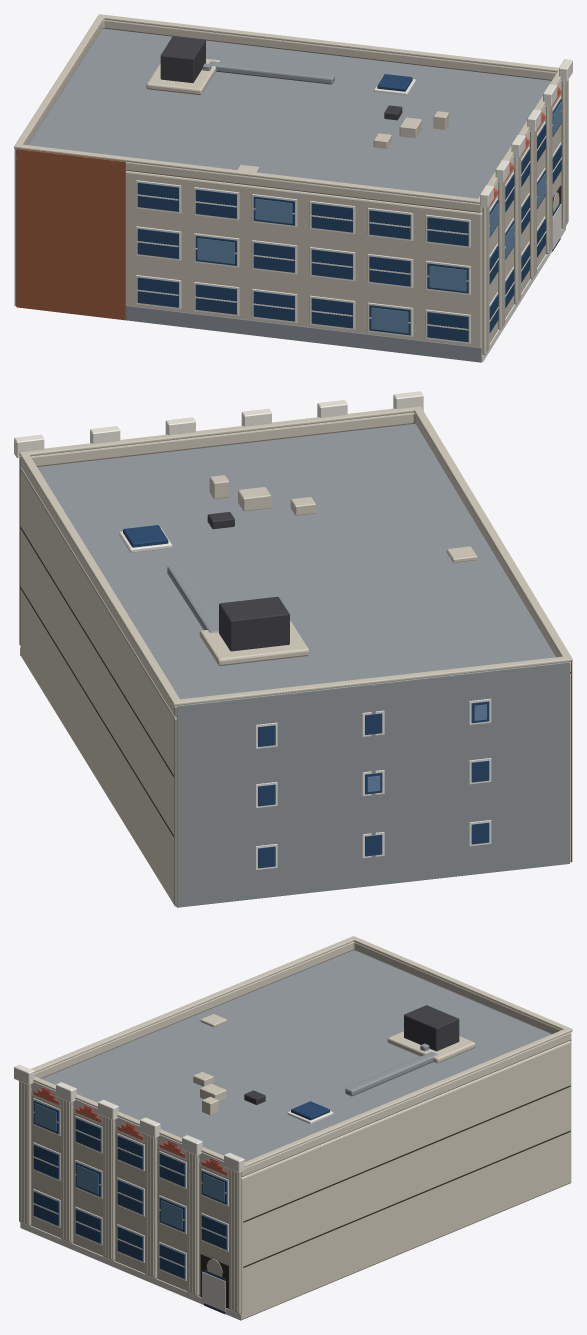
File: 434-brannan.glb
3 views of the same model, one above another, from view 1: azimuth 30°, elevation 25°; view 2: azimuth 150°, elevation 25°; view 3: azimuth 270°, elevation 25° (orthographic). The views are drawn at different scales.
Visible parts, largest first — view 1: body, clad_zoe, parapet, coping, dado_z, penthouse_ahu, duct, zw14_fill, zw02_fill, zw05_fill, zw01_fill, zw13_fill (+26 smaller); view 2: body, clad_rear, coping, parapet, penthouse_ahu, penthouse, duct, clad_rear_rib0, clad_rear_rib3, clad_rear_rib1, clad_rear_rib4, skylight (+2 smaller); view 3: body, parapet, coping, penthouse_ahu, plinth_f, pilaster4, pilaster1, pilaster0, pilaster2, pilaster3, pilaster5, duct (+16 smaller).
Boxes of the visible parts, x1,y1,x2,y2 form: body: (15, 28, 561, 360); clad_zoe: (16, 148, 125, 320); parapet: (15, 19, 556, 212); coping: (14, 14, 560, 203); dado_z: (126, 305, 481, 362); penthouse_ahu: (160, 36, 205, 82); duct: (209, 61, 334, 84); zw14_fill: (369, 256, 410, 286); zw02_fill: (253, 291, 294, 321); zw05_fill: (427, 312, 468, 342); zw01_fill: (195, 284, 236, 314); zw13_fill: (311, 249, 352, 279); body: (20, 424, 570, 906); clad_rear: (176, 662, 569, 907); coping: (19, 406, 572, 705); parapet: (20, 412, 570, 716); penthouse_ahu: (219, 596, 289, 651); penthouse: (199, 621, 309, 665); duct: (167, 565, 218, 632); clad_rear_rib0: (214, 702, 218, 903); clad_rear_rib3: (450, 676, 454, 876); clad_rear_rib1: (293, 693, 296, 894); clad_rear_rib4: (529, 667, 532, 868); skylight: (123, 525, 168, 547); body: (31, 950, 571, 1319); parapet: (31, 941, 571, 1176); coping: (31, 936, 572, 1167); penthouse_ahu: (404, 1005, 459, 1051); plinth_f: (20, 1222, 241, 1320); pilaster4: (187, 1151, 199, 1296); pilaster1: (61, 1098, 73, 1243); pilaster0: (19, 1081, 31, 1225); pilaster2: (103, 1116, 115, 1260); pilaster3: (145, 1134, 157, 1278); pilaster5: (229, 1169, 241, 1313); duct: (345, 1052, 437, 1096).
Size of the model in its own units: 40.2 by 13.79 by 40.67.
